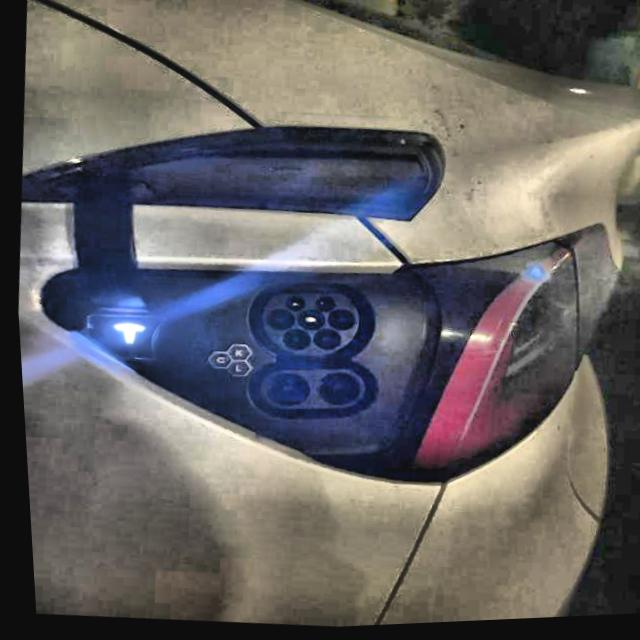inlet: (257, 296, 355, 358)
inlet-above-left: (281, 298, 301, 313)
inlet-above-right: (312, 299, 331, 314)
inlet-below-left: (278, 331, 306, 353)
inlet-below-right: (308, 331, 336, 352)
inlet-center: (293, 311, 321, 332)
inlet-center-left: (262, 310, 290, 332)
inlet-center-right: (323, 311, 350, 333)
